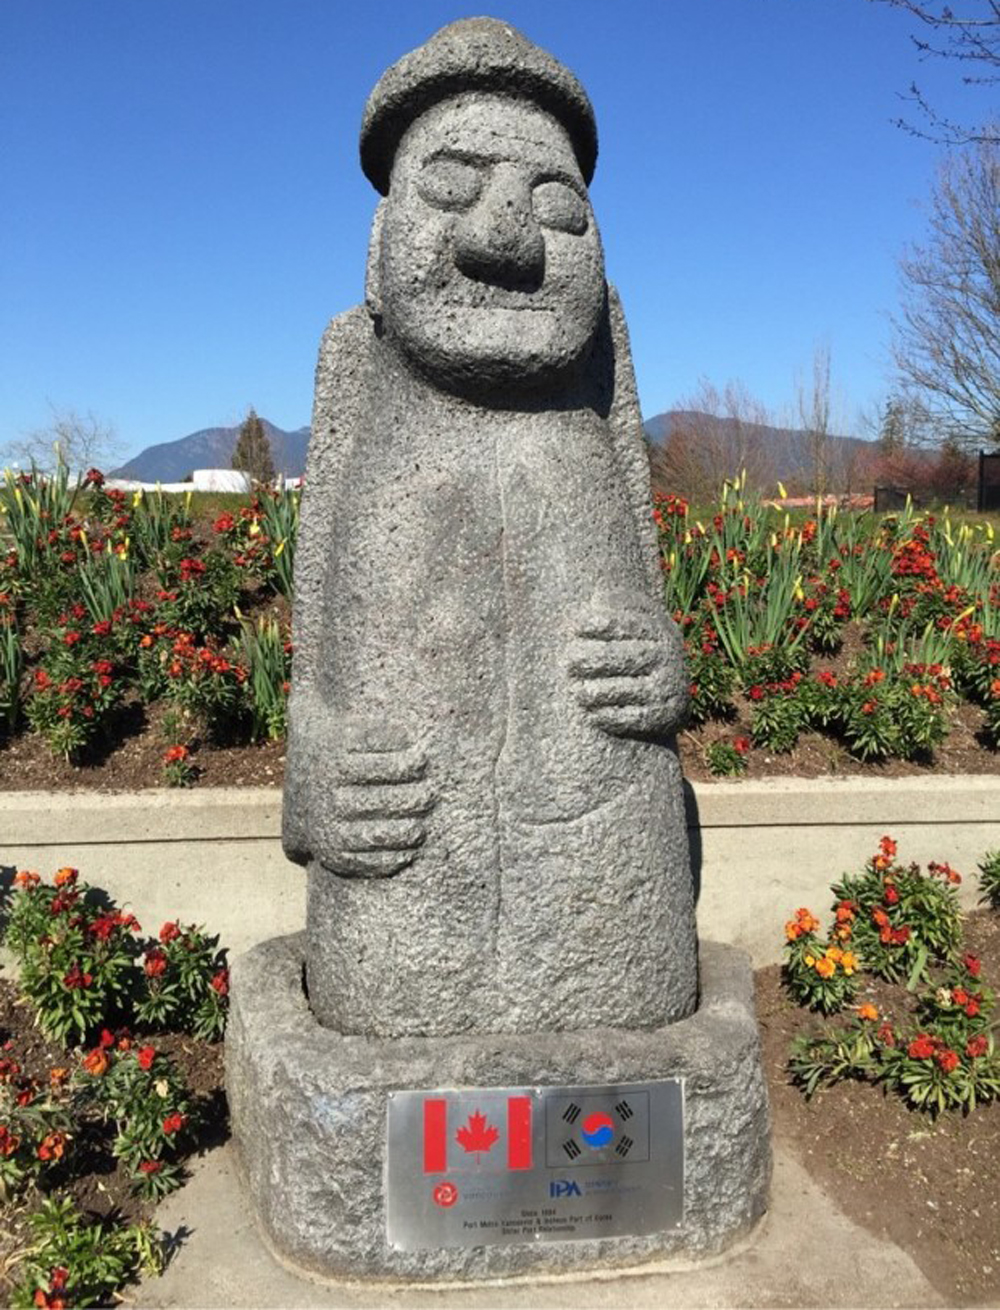Stone Statue: (181, 2, 810, 1301)
